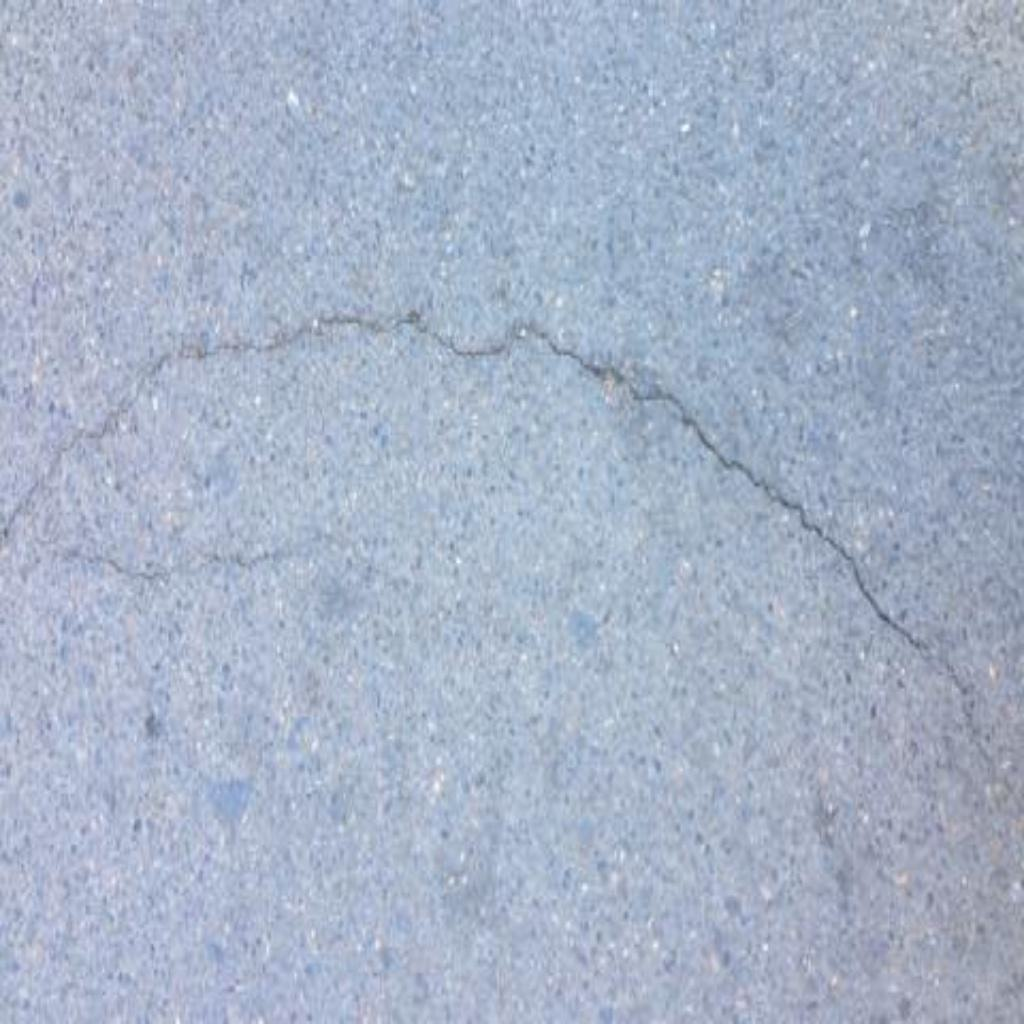Crack: (1, 307, 1024, 769)
